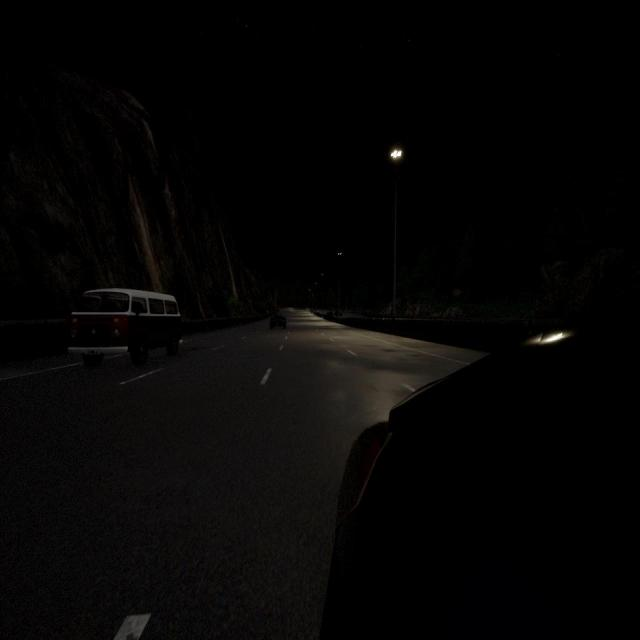Vehicle: (319, 280, 639, 640), (68, 289, 182, 366), (269, 313, 287, 330), (334, 309, 342, 316), (326, 310, 334, 317)
